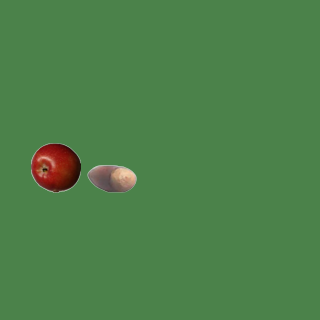Apple Braeburn: (30, 142, 80, 192)
Hazelnut: (86, 153, 136, 203)
